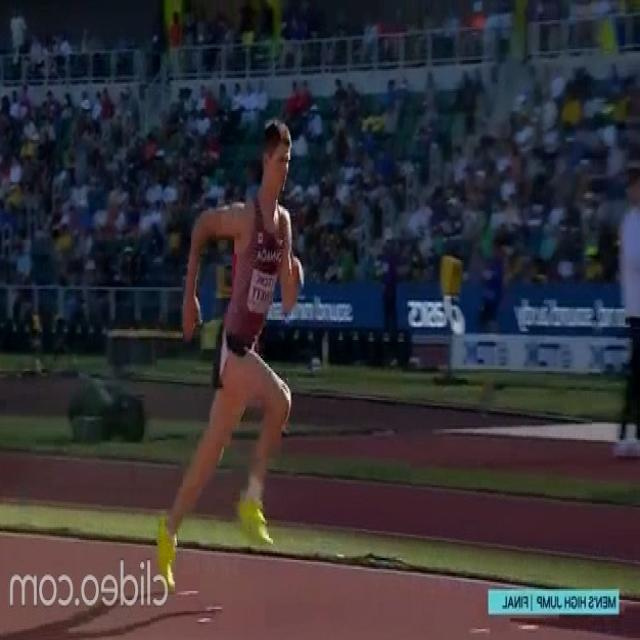run: (162, 126, 302, 588)
